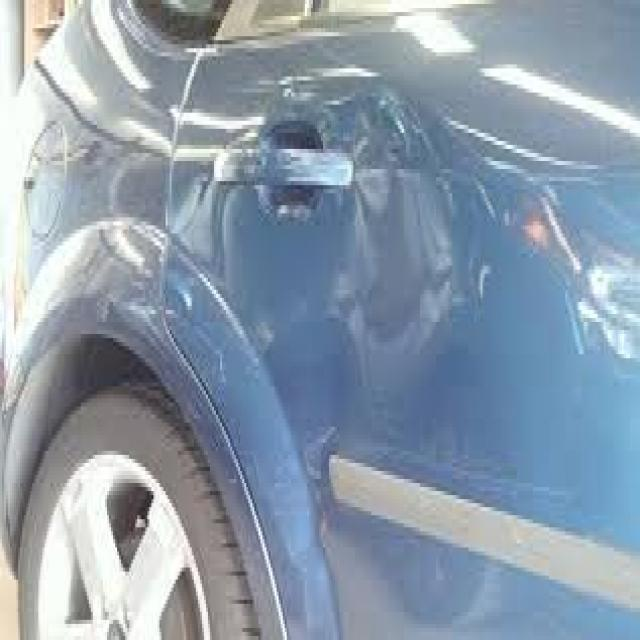minor: (64, 70, 524, 332)
